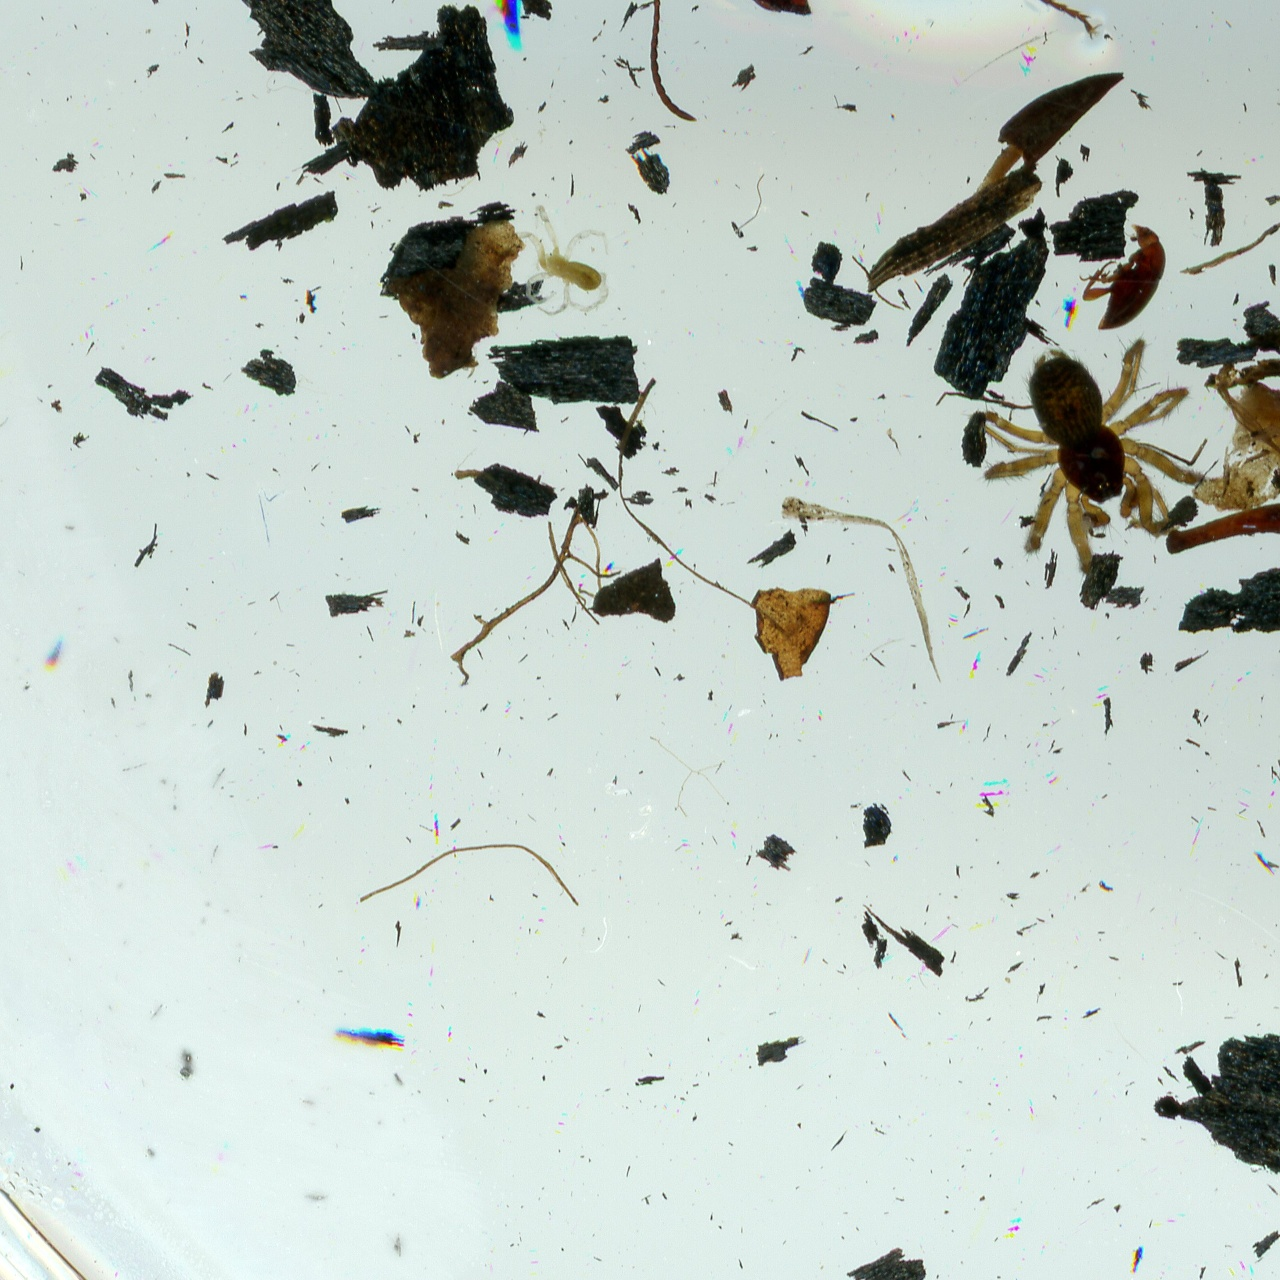arthropod: (957, 327, 1217, 579), (643, 0, 1111, 140), (1063, 208, 1179, 348), (509, 202, 617, 317), (471, 0, 530, 56)
